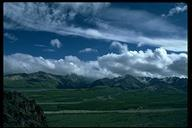cloud: (15, 43, 187, 67)
field: (49, 93, 186, 124)
mountain: (6, 68, 187, 121)
sky: (6, 9, 184, 64)
